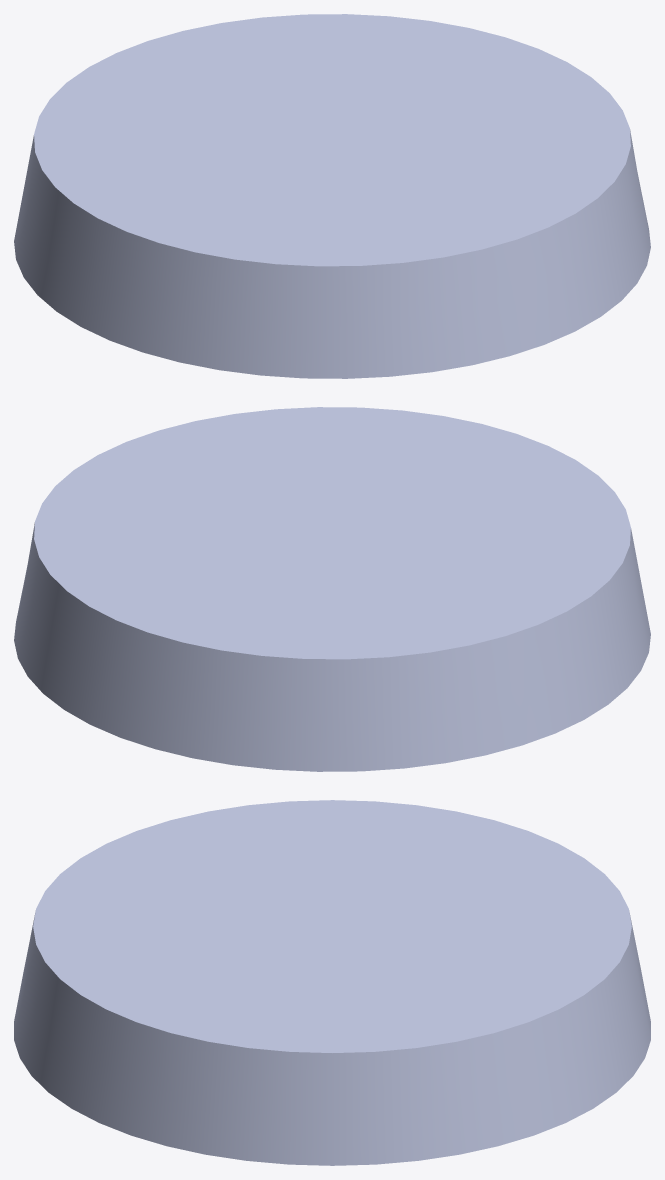
The model's file is 80_tapa_corcho.glb.
The picture shows the model from 3 angles, top to bottom: view 1: azimuth 30°, elevation 25°; view 2: azimuth 150°, elevation 25°; view 3: azimuth 270°, elevation 25°; orthographic projection.
Parts seen in each view (by area): view 1: TAPA CORCHO 80; view 2: TAPA CORCHO 80; view 3: TAPA CORCHO 80.
Boxes of the visible parts, x1,y1,x2,y2 form: TAPA CORCHO 80: (14,14,650,378); TAPA CORCHO 80: (14,407,650,771); TAPA CORCHO 80: (14,800,650,1165).
Size of the model in its own units: 0.0832 by 0.015 by 0.083.
